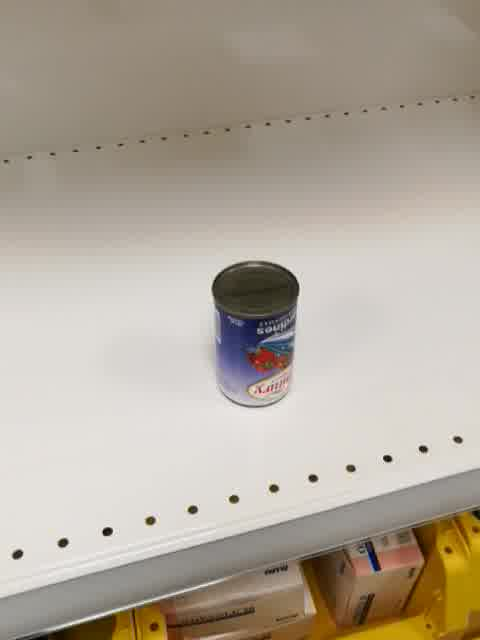sardine: (210, 258, 300, 410)
